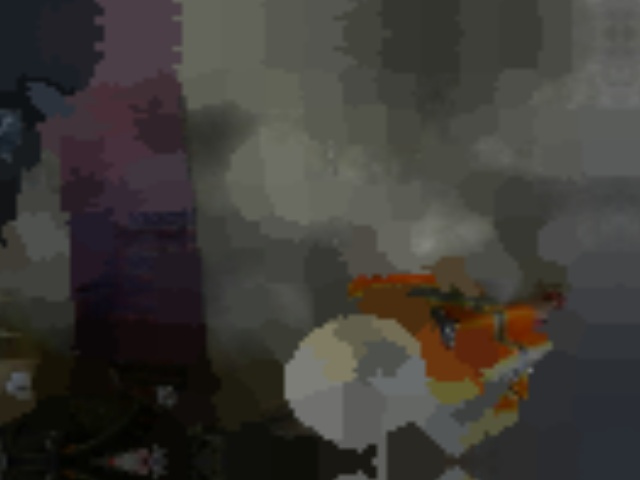eight: (352, 340, 397, 390)
